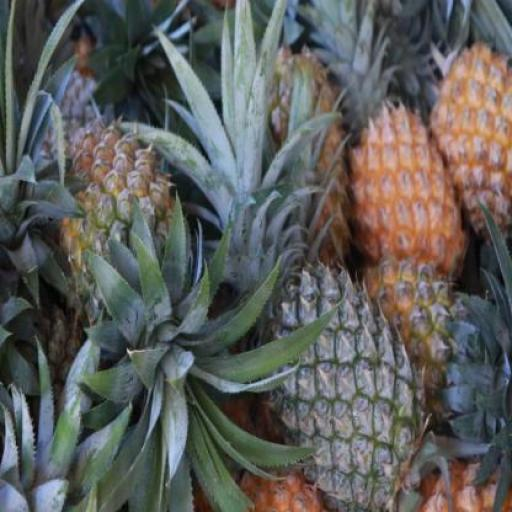------------------------------: (52, 122, 192, 333)
Pineapple - v8 v1: (345, 104, 460, 285), (428, 46, 511, 258)
